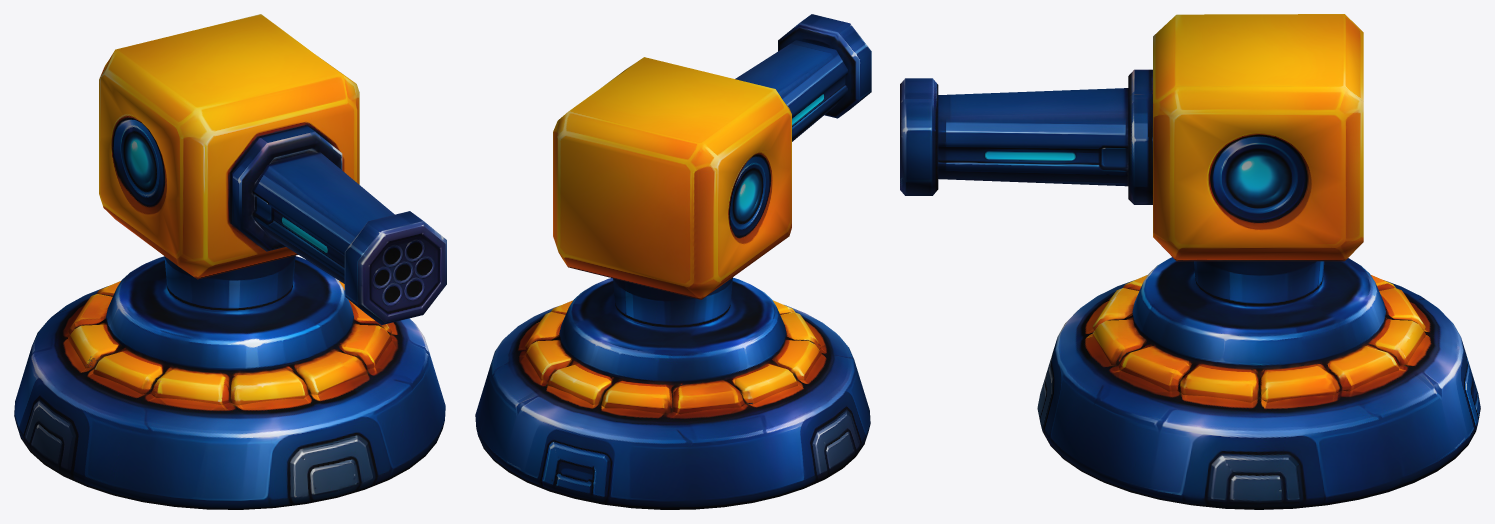
3 views of the same model, side by side, from view 1: azimuth 30°, elevation 25°; view 2: azimuth 150°, elevation 25°; view 3: azimuth 270°, elevation 25° (orthographic). The views are drawn at different scales.
Visible parts, largest first — view 1: TurretBase, TurretHead; view 2: TurretBase, TurretHead; view 3: TurretBase, TurretHead.
Boxes of the visible parts, <box> form: TurretBase: <box>14,256,445,509</box>; TurretHead: <box>99,14,446,325</box>; TurretBase: <box>475,277,870,509</box>; TurretHead: <box>553,14,871,304</box>; TurretBase: <box>1037,257,1480,509</box>; TurretHead: <box>900,14,1363,279</box>.
Bounding box in the file's own units: 171 × 224 × 157.
Materials: 1 (1 with a texture image).
